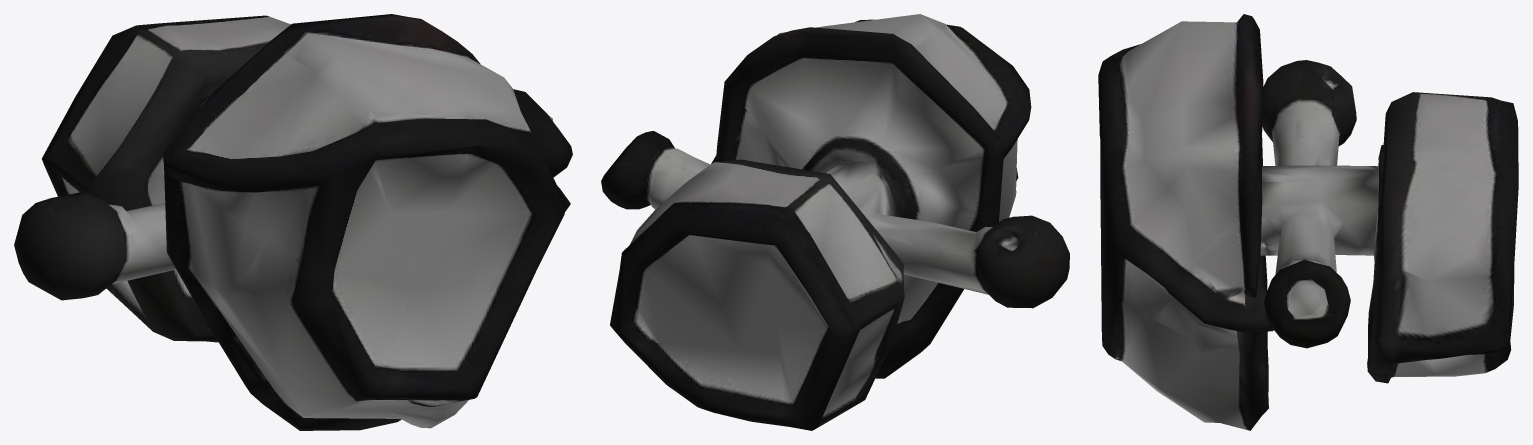
Rendered from dumbbell.glb.
The picture shows the model from 3 angles, left to right: view 1: azimuth 30°, elevation 25°; view 2: azimuth 150°, elevation 25°; view 3: azimuth 270°, elevation 25°; orthographic projection. The views are drawn at different scales.
Visible parts, largest first — view 1: tripo_node_d19f6bd1-389d-444d-981b-f85045f80dd4; view 2: tripo_node_d19f6bd1-389d-444d-981b-f85045f80dd4; view 3: tripo_node_d19f6bd1-389d-444d-981b-f85045f80dd4.
Boxes of the visible parts, left/top/right/bottom form: tripo_node_d19f6bd1-389d-444d-981b-f85045f80dd4: left=14, top=14, right=572, bottom=430; tripo_node_d19f6bd1-389d-444d-981b-f85045f80dd4: left=601, top=14, right=1069, bottom=430; tripo_node_d19f6bd1-389d-444d-981b-f85045f80dd4: left=1098, top=14, right=1518, bottom=430.
Bounding box in the file's own units: 0.9994 × 0.7455 × 0.7701.
1 material, 1 textured.
